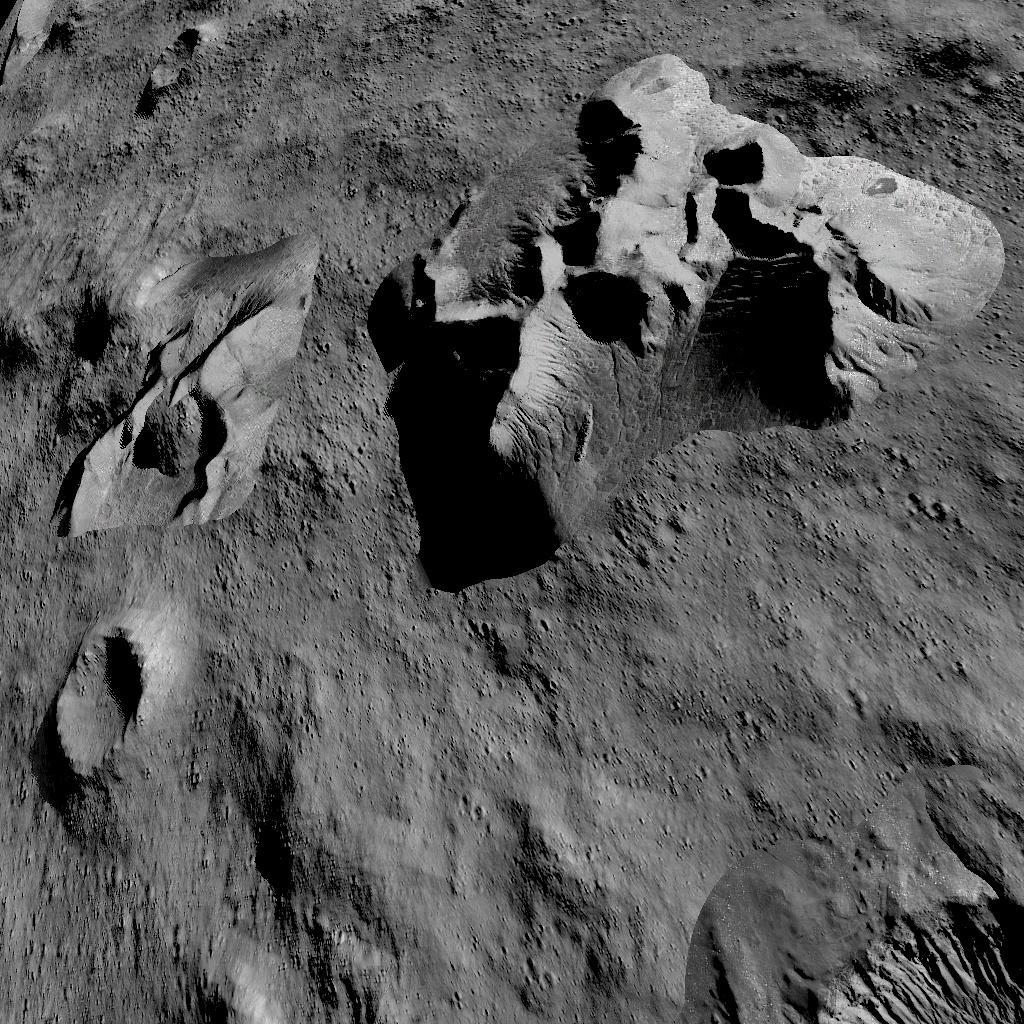Boulders: (341, 48, 993, 600)
Crater: (3, 273, 286, 546), (755, 876, 1024, 1024), (32, 594, 184, 814), (0, 0, 113, 82), (136, 20, 224, 106)
Plan surface: (211, 633, 721, 1024), (748, 618, 1024, 832), (4, 117, 324, 256)
